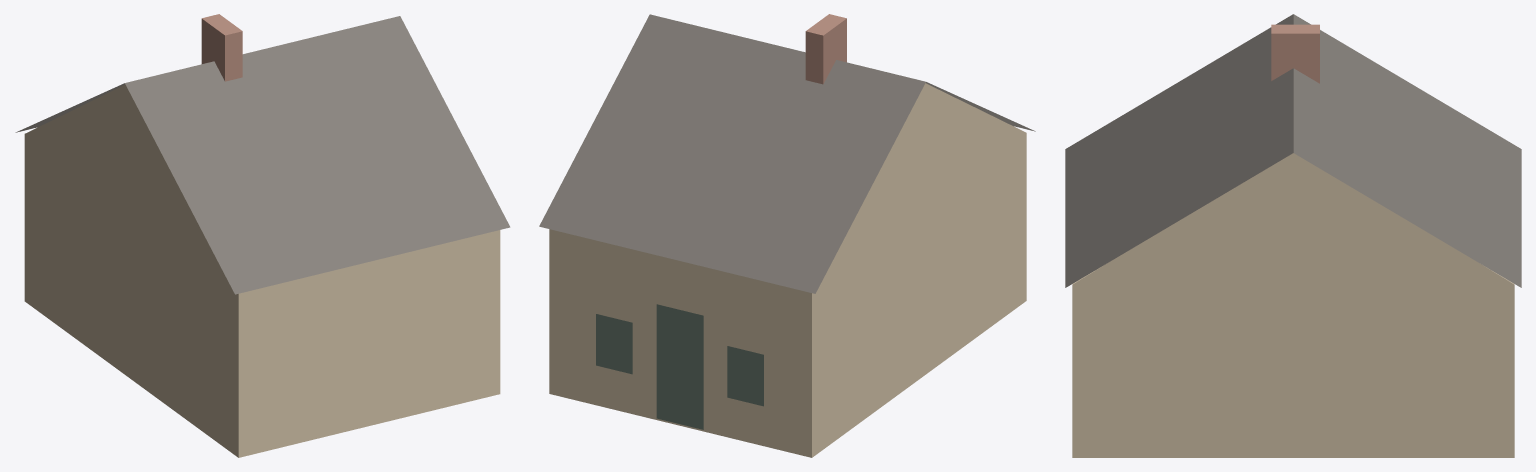
The model's file is recon_1835_south_c1_018__recommended_1835.glb.
3 renders of one model, left to right at view 1: azimuth 30°, elevation 25°; view 2: azimuth 150°, elevation 25°; view 3: azimuth 270°, elevation 25°, orthographic. The views are drawn at different scales.
Visible parts, largest first — view 1: recon_1835_south_c1_018__recommended_1835; view 2: recon_1835_south_c1_018__recommended_1835; view 3: recon_1835_south_c1_018__recommended_1835.
Boxes of the visible parts, x1=… form: recon_1835_south_c1_018__recommended_1835: x1=15, y1=14, x2=510, y2=457; recon_1835_south_c1_018__recommended_1835: x1=539, y1=14, x2=1035, y2=457; recon_1835_south_c1_018__recommended_1835: x1=1065, y1=14, x2=1521, y2=457.
Bounding box in the file's own units: 5.59 × 6.44 × 7.76.
